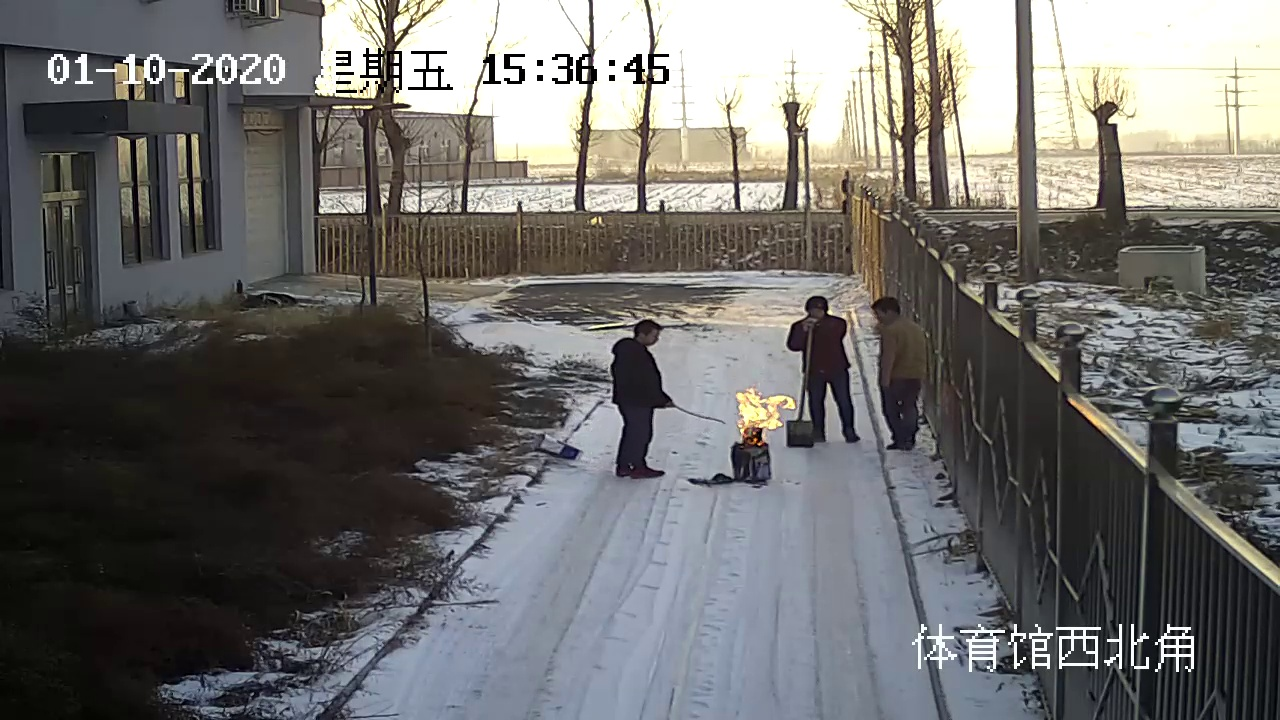fire: (731, 387, 790, 443)
